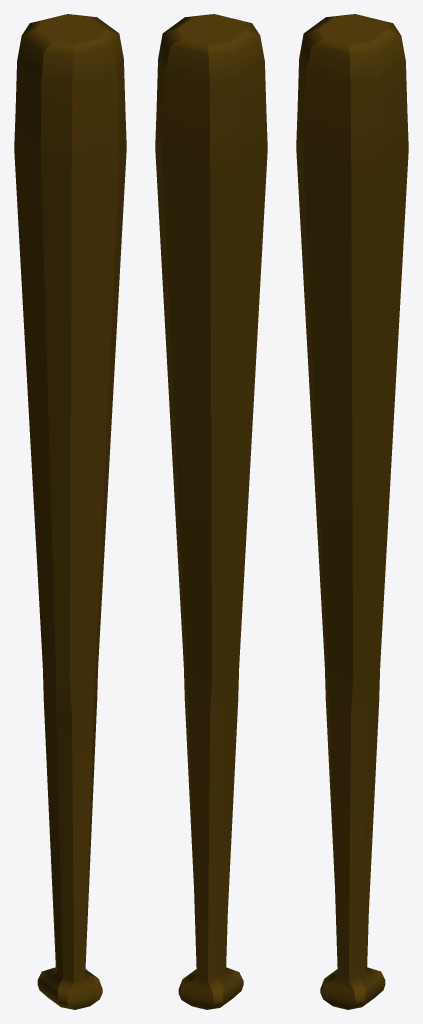
File: enimybat.fbx
The picture shows the model from 3 angles, left to right: view 1: azimuth 30°, elevation 25°; view 2: azimuth 150°, elevation 25°; view 3: azimuth 330°, elevation 25°; orthographic projection.
Parts seen in each view (by area): view 1: pCube1; view 2: pCube1; view 3: pCube1.
Part boxes in pixels (<box>): pCube1: <box>14,14,126,1009</box>; pCube1: <box>155,14,267,1009</box>; pCube1: <box>296,14,408,1009</box>.
Size of the model in its own units: 1.13 by 12.27 by 1.15.
